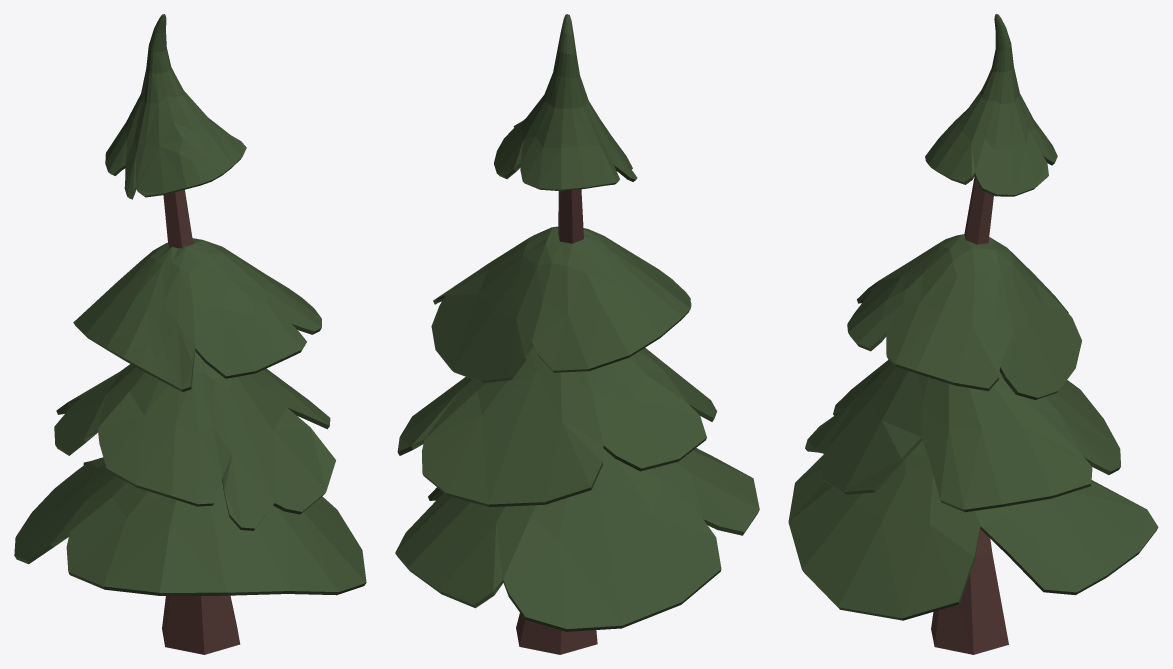
The model's file is PineTree_2.glb.
3 views of the same model, side by side, from view 1: azimuth 30°, elevation 25°; view 2: azimuth 150°, elevation 25°; view 3: azimuth 270°, elevation 25° (orthographic). The views are drawn at different scales.
Visible parts, largest first — view 1: PineTree_2; view 2: PineTree_2; view 3: PineTree_2.
Part boxes in pixels (x1=…): PineTree_2: x1=14, y1=14, x2=366, y2=654; PineTree_2: x1=395, y1=14, x2=759, y2=654; PineTree_2: x1=788, y1=14, x2=1158, y2=654.
Bounding box in the file's own units: 1.8 × 3.56 × 1.96.
